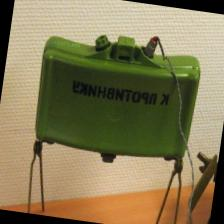MOH-50: (18, 17, 208, 194)
